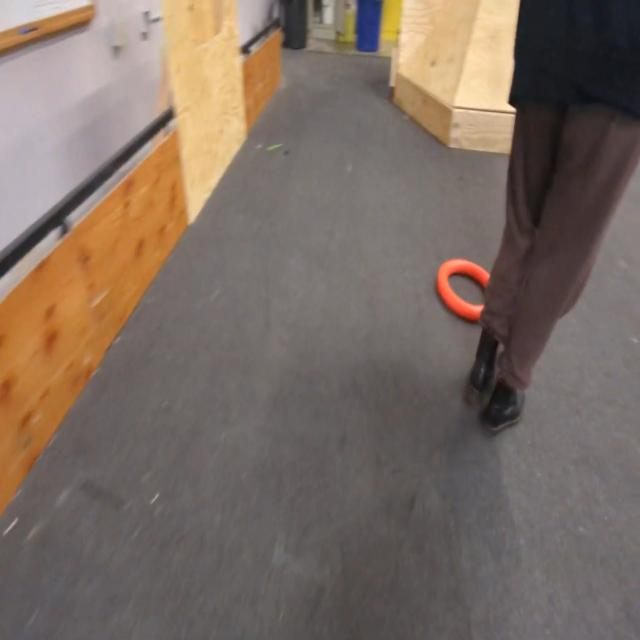note: (435, 260, 490, 324)
